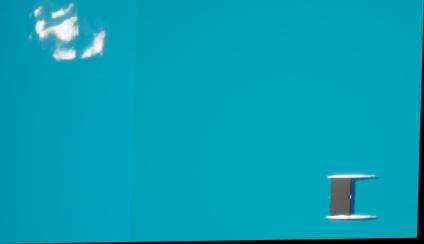boat: (325, 173, 380, 225)
drone: (331, 181, 351, 216)
land_base: (14, 0, 120, 74)
